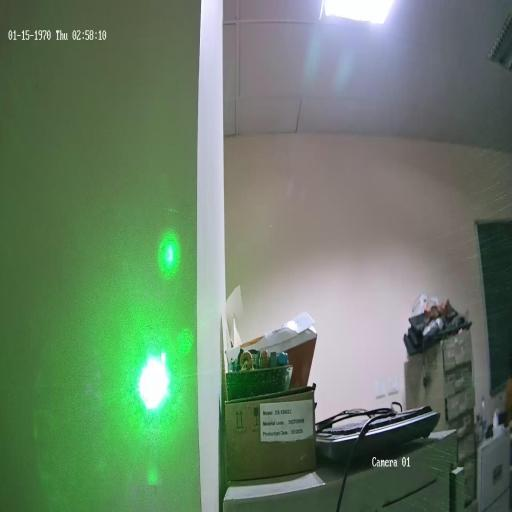laser: (132, 327, 176, 428)
